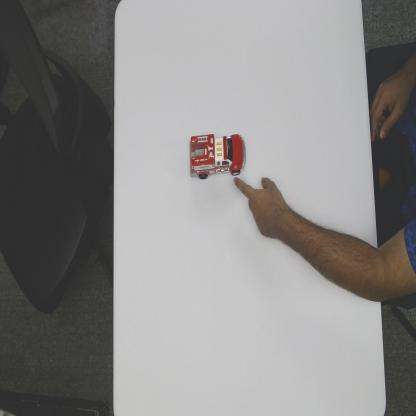Arm: (292, 206, 416, 310)
Firetruck: (186, 124, 246, 183)
Hand: (232, 167, 290, 242)
